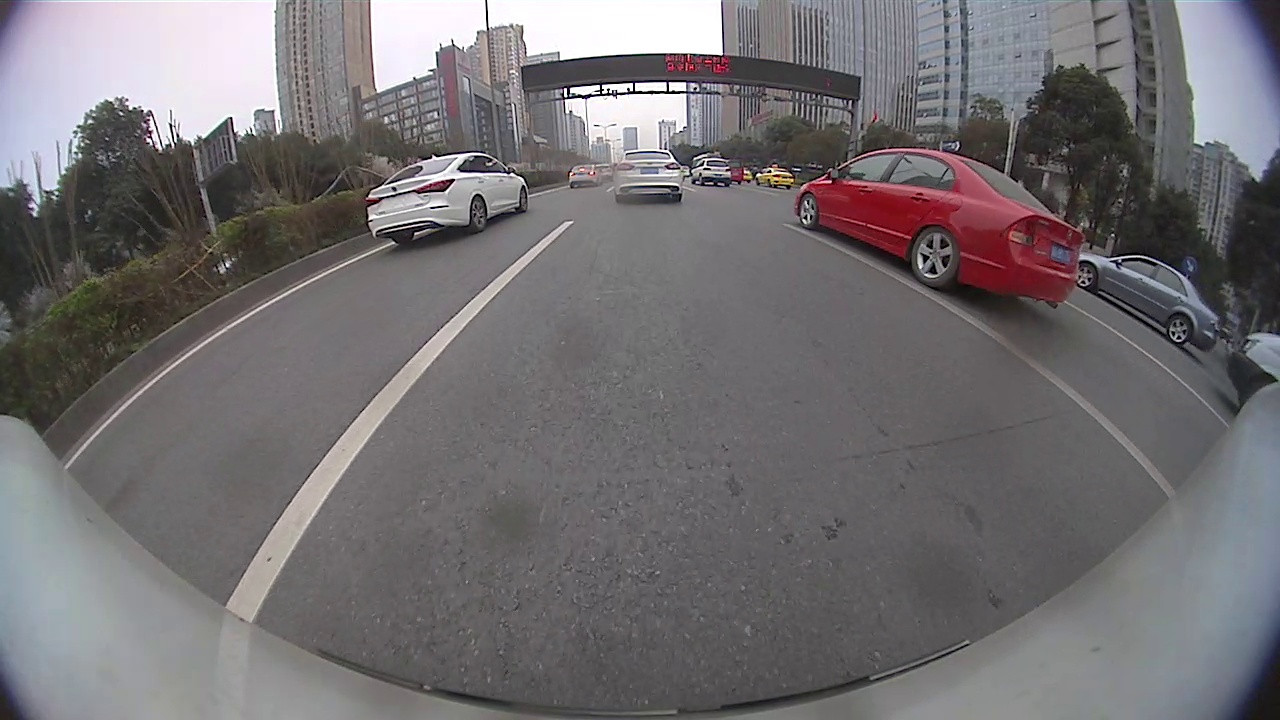car: (794, 146, 1086, 307), (363, 150, 529, 244), (1080, 251, 1223, 352), (612, 147, 684, 202), (1228, 330, 1278, 404), (691, 155, 733, 186), (567, 161, 601, 189), (758, 167, 795, 191)
front: (798, 191, 818, 230), (1078, 258, 1097, 292), (520, 187, 527, 212)
rear: (910, 224, 959, 289), (1165, 311, 1194, 347), (469, 194, 486, 232)
